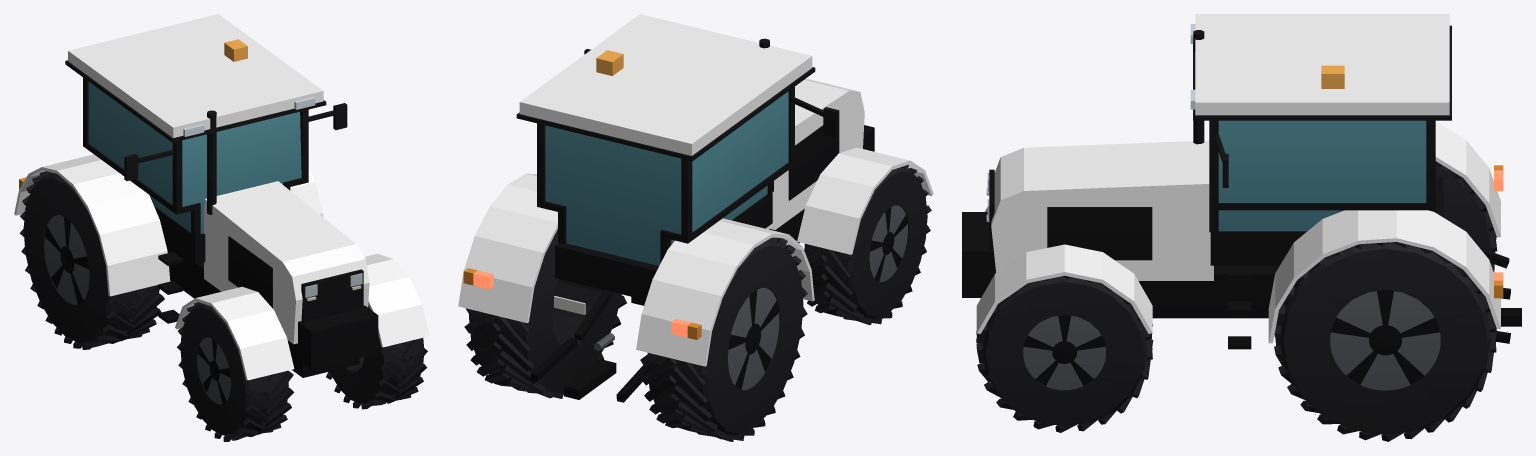
File: Tractor.fbx
3 views of the same model, side by side, from view 1: azimuth 30°, elevation 25°; view 2: azimuth 150°, elevation 25°; view 3: azimuth 270°, elevation 25° (orthographic). The views are drawn at different scales.
Visible parts, largest first — view 1: body, wheel-back-right, wheel-front-right, wheel-front-left; view 2: body, wheel-back-right, wheel-front-right, wheel-back-left; view 3: body, wheel-back-left, wheel-front-left, wheel-back-right.
Part boxes in pixels (x1,y1,x2,y2): body: (14,14,429,380); wheel-back-right: (19,171,164,349); wheel-front-right: (177,302,293,441); wheel-front-left: (326,305,427,409); body: (458,14,933,402); wheel-back-right: (640,237,807,441); wheel-front-right: (804,164,931,324); wheel-back-left: (464,229,626,398); body: (962,14,1521,349); wheel-back-left: (1274,242,1496,441); wheel-front-left: (976,275,1153,432); wheel-back-right: (1332,161,1497,325).
Bounding box in the file's own units: 2.64 × 3.19 × 4.8.
Materials: 4 (1 with a texture image).
